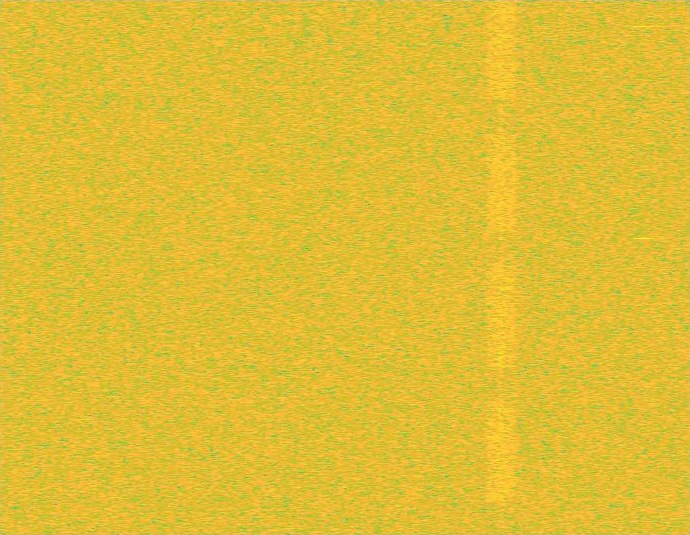5G: (484, 0, 519, 534)
DSSS: (499, 0, 504, 534)
Radar: (636, 0, 650, 534)
